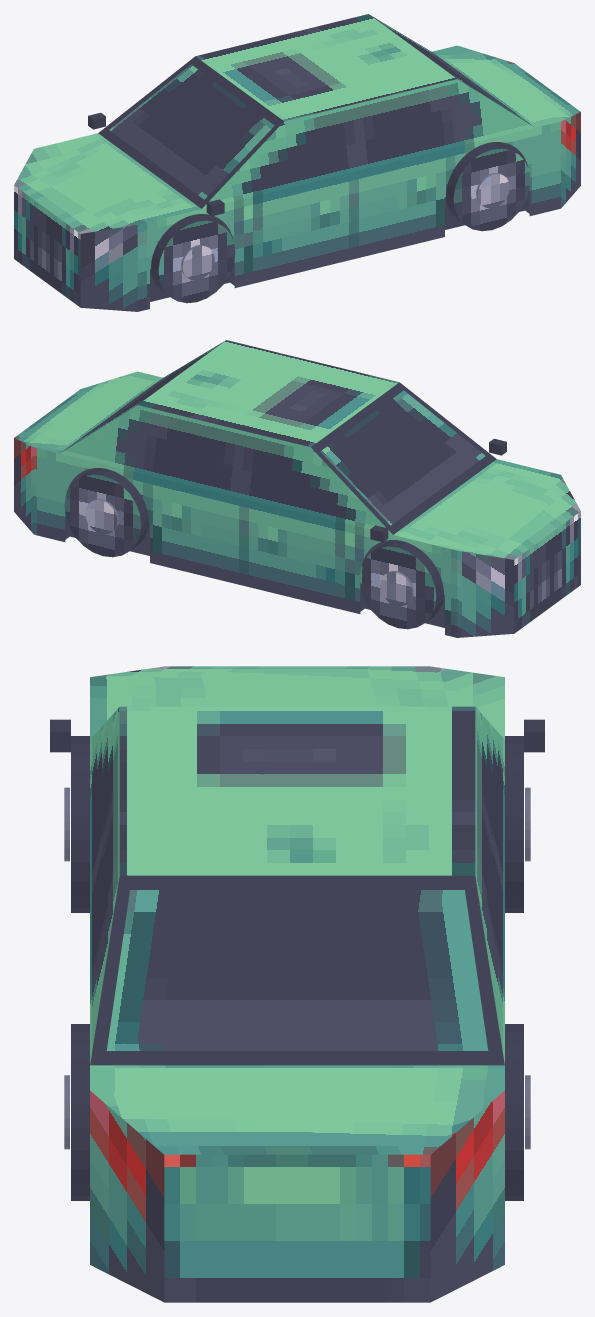
Rendered from car-10-v1.glb.
The picture shows the model from 3 angles, top to bottom: view 1: azimuth 30°, elevation 25°; view 2: azimuth 150°, elevation 25°; view 3: azimuth 270°, elevation 25°; orthographic projection. The views are drawn at different scales.
Visible parts, largest first — view 1: Passenger-body-west, Cabin-windows-west, Roof, Windshield-glass, Hood, Front-fascia, Tire_FL, Tire_RL, Trunk, Front-corner--1, Windshield-frame, Rear-corner--1 (+6 smaller); view 2: Passenger-body-east, Cabin-windows-east, Roof, Windshield-glass, Hood, Front-fascia, Tire_FR, Tire_RR, Trunk, Front-corner-1, Windshield-frame, Rear-corner-1 (+6 smaller); view 3: Roof, Rear-window-glass, Rear-fascia, Trunk, Hood, Rear-window-frame, Rear-corner-1, Rear-corner--1, Cabin-windows-east, Cabin-windows-west, Tire_FL, Tire_FR (+2 smaller).
Part boxes in pixels (bbox=[...]): Passenger-body-west: bbox=[137, 121, 560, 311]; Cabin-windows-west: bbox=[202, 79, 534, 208]; Roof: bbox=[195, 14, 456, 121]; Windshield-glass: bbox=[109, 64, 274, 199]; Hood: bbox=[14, 133, 200, 233]; Front-fascia: bbox=[14, 185, 80, 307]; Tire_FL: bbox=[151, 214, 235, 303]; Tire_RL: bbox=[446, 142, 530, 231]; Trunk: bbox=[432, 45, 580, 127]; Front-corner--1: bbox=[80, 224, 137, 311]; Windshield-frame: bbox=[98, 56, 283, 208]; Rear-corner--1: bbox=[561, 112, 580, 208]; Passenger-body-east: bbox=[34, 447, 457, 637]; Cabin-windows-east: bbox=[60, 405, 392, 534]; Roof: bbox=[138, 340, 399, 447]; Windshield-glass: bbox=[320, 390, 485, 525]; Hood: bbox=[394, 459, 580, 559]; Front-fascia: bbox=[514, 511, 580, 633]; Tire_FR: bbox=[359, 540, 443, 629]; Tire_RR: bbox=[64, 468, 148, 557]; Trunk: bbox=[14, 371, 162, 453]; Front-corner-1: bbox=[457, 550, 514, 637]; Windshield-frame: bbox=[311, 382, 496, 534]; Rear-corner-1: bbox=[14, 438, 33, 534]; Roof: bbox=[119, 706, 475, 875]; Rear-window-glass: bbox=[106, 890, 488, 1050]; Rear-fascia: bbox=[164, 1154, 430, 1302]; Trunk: bbox=[90, 1065, 504, 1154]; Hood: bbox=[90, 666, 504, 739]; Rear-window-frame: bbox=[90, 875, 504, 1065]; Rear-corner-1: bbox=[430, 1090, 504, 1302]; Rear-corner--1: bbox=[90, 1090, 164, 1302]; Cabin-windows-east: bbox=[475, 707, 504, 1064]; Cabin-windows-west: bbox=[90, 707, 119, 1064]; Tire_FL: bbox=[71, 736, 89, 912]; Tire_FR: bbox=[505, 736, 523, 912].
Size of the model in its own units: 78 by 22 by 33.4.
1 material, 1 textured.
